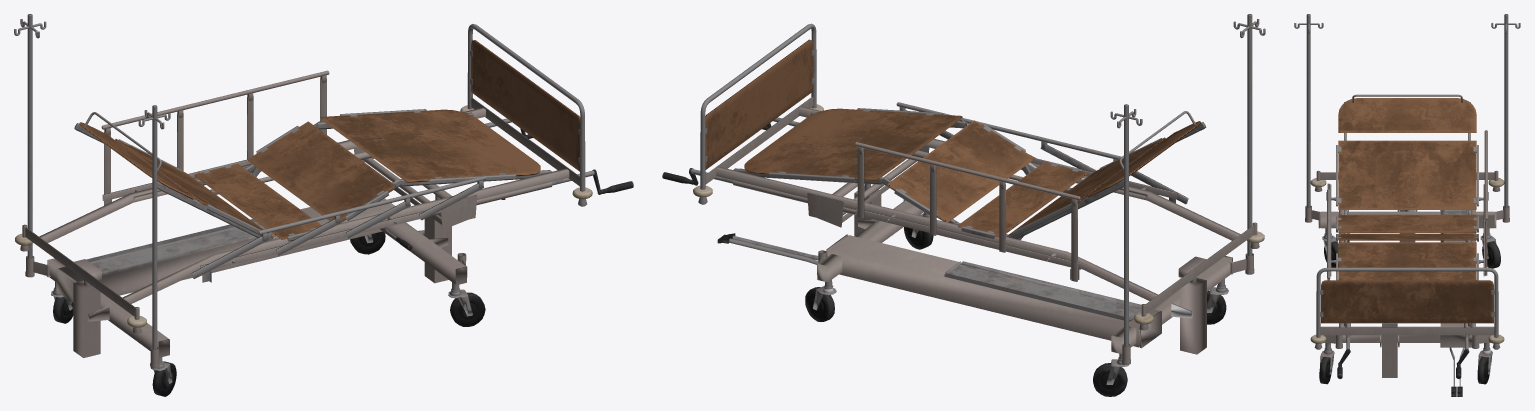
Rendered from h_camilla_reclinable.glb.
3 renders of one model, left to right at view 1: azimuth 30°, elevation 25°; view 2: azimuth 150°, elevation 25°; view 3: azimuth 270°, elevation 25°, orthographic. The views are drawn at different scales.
Parts seen in each view (by area): view 1: PlancheE_low, PlancheD_low, PlancheF_low, BarriereA_low, CadreB_low, PlancheC_low, BarriereB_low, RailA_low, Etagere_low, PistonA_low, CadreA_low, PerfA_low1 (+14 smaller); view 2: PlancheE_low, CadreB_low, PlancheD_low, PlancheF_low, BarriereB_low, Etagere_low, RailB_low, PlancheC_low, BarriereA_low, PistonA_low, TubeCD_low, RailA_low (+15 smaller); view 3: PlancheB_low, PlancheF_low, PlancheE_low, PlancheA_low, PlancheC_low, TubeCD_low, ArmatureB_low_SHD_Low_0, PlancheD_low, PerfA_low1, PerfB_low1, CadreC_low, CadreA_low (+11 smaller).
Boxes of the visible parts, x1,y1,x2,y2 form: PlancheE_low: (320,109,540,182); PlancheD_low: (247,121,395,221); PlancheF_low: (471,40,580,171); BarriereA_low: (191,176,486,282); CadreB_low: (56,198,395,302); PlancheC_low: (194,163,321,239); BarriereB_low: (101,70,329,205); RailA_low: (122,168,569,303); Etagere_low: (86,219,272,275); PistonA_low: (73,280,109,357); CadreA_low: (379,212,466,285); PerfA_low1: (138,105,170,349); PlancheE_low: (744,108,962,181); CadreB_low: (826,234,1161,348); PlancheD_low: (887,120,1034,222); PlancheF_low: (705,39,813,169); BarriereB_low: (855,142,1081,281); Etagere_low: (944,261,1141,321); RailB_low: (716,167,1157,300); PlancheC_low: (958,162,1086,237); BarriereA_low: (896,102,1188,204); PistonA_low: (1171,277,1206,354); TubeCD_low: (698,23,816,204); RailA_low: (798,106,1240,240); PlancheB_low: (1338,140,1476,209); PlancheF_low: (1321,280,1493,323); PlancheE_low: (1338,242,1476,280); PlancheA_low: (1338,98,1476,132); PlancheC_low: (1338,214,1476,232); TubeCD_low: (1314,267,1500,349); ArmatureB_low_SHD_Low_0: (1320,327,1494,335); PlancheD_low: (1338,233,1476,240); PerfA_low1: (1294,14,1323,207); PerfB_low1: (1491,14,1520,207); CadreC_low: (1318,211,1496,228); CadreA_low: (1320,326,1494,342).
Size of the model in its own units: 239 by 136 by 114.
1 material, 1 textured.
